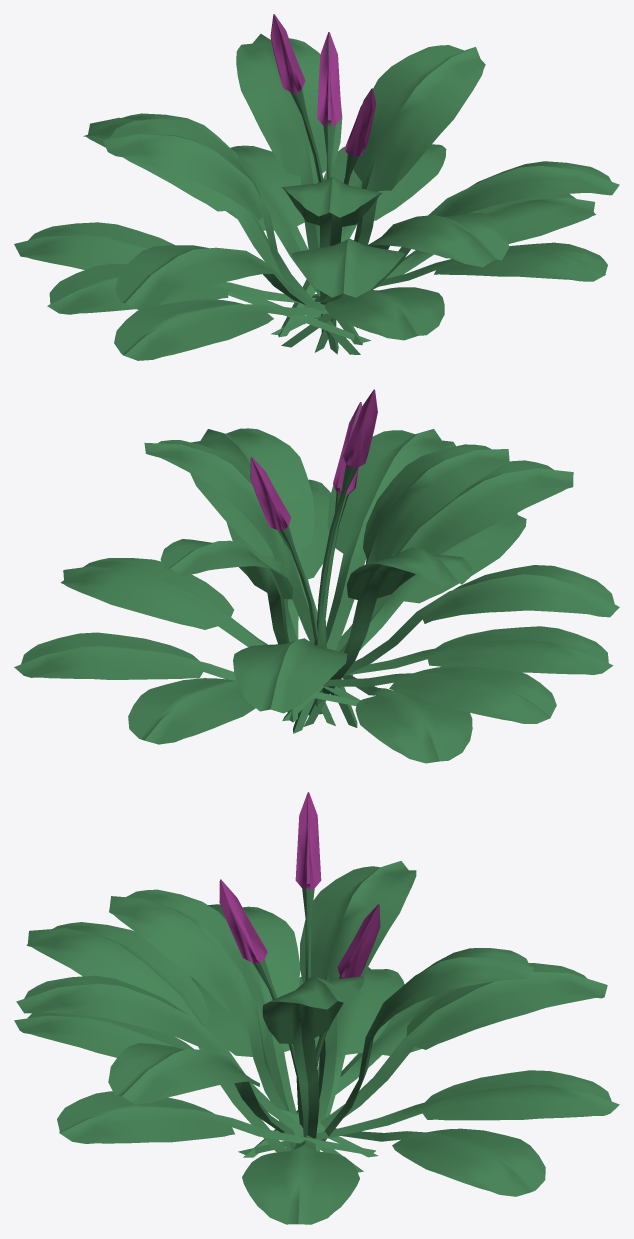
Rendered from tropical_small10_flower.fbx.
3 renders of one model, top to bottom at view 1: azimuth 30°, elevation 25°; view 2: azimuth 150°, elevation 25°; view 3: azimuth 270°, elevation 25°, orthographic. The views are drawn at different scales.
Visible parts, largest first — view 1: tropical_small10_flower; view 2: tropical_small10_flower; view 3: tropical_small10_flower.
Boxes of the visible parts, x1,y1,x2,y2 form: tropical_small10_flower: (14,14,619,360); tropical_small10_flower: (14,389,619,763); tropical_small10_flower: (14,792,619,1224).
Bounding box in the file's own units: 0.2079 × 0.1333 × 0.2027.
